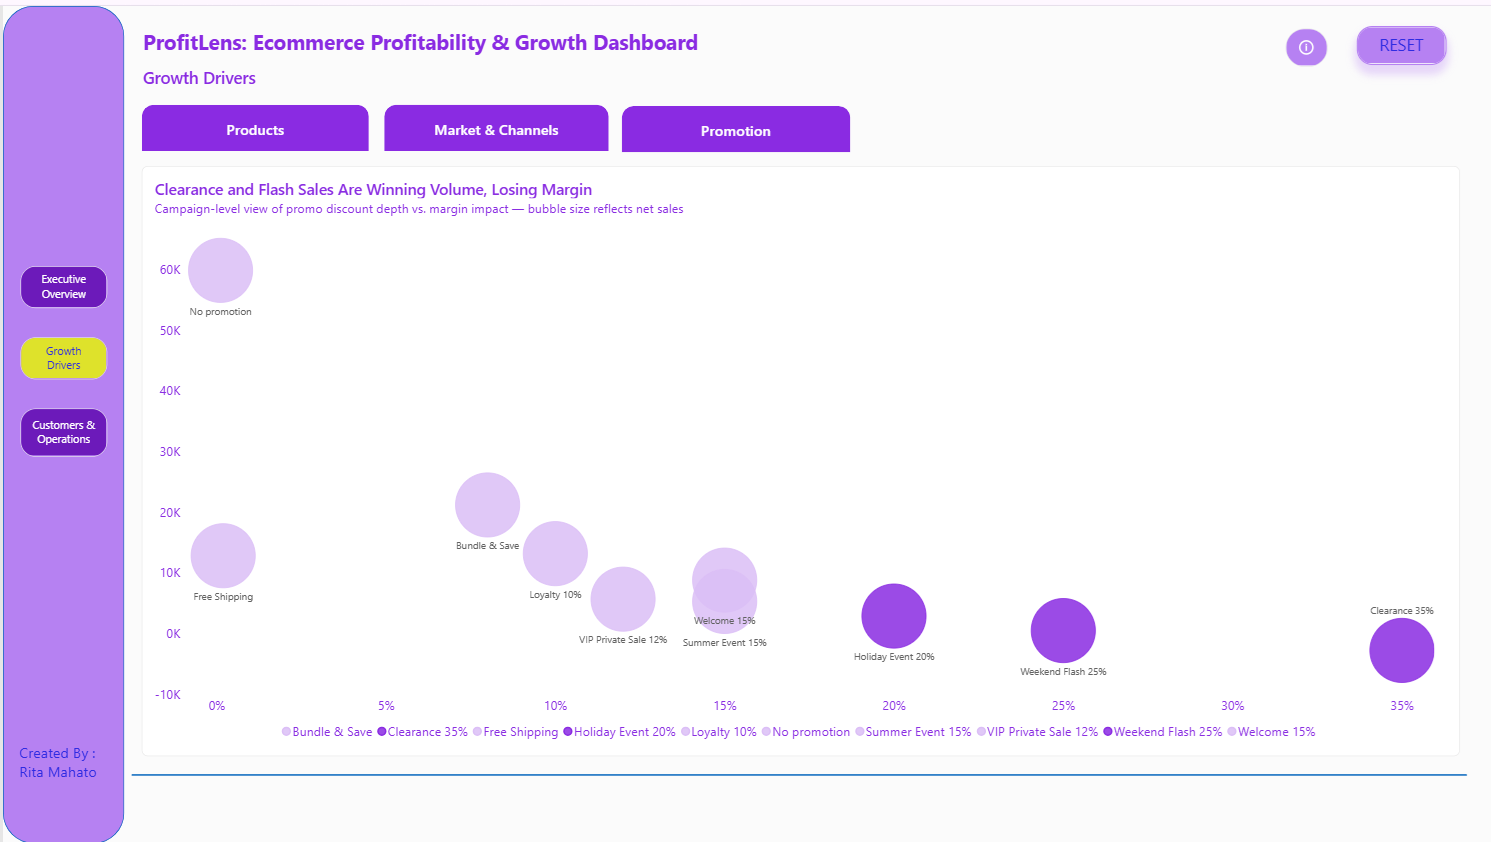

What the dashboard file says about the page in this screenshot:
{"tool":"powerbi","page":{"name":"Growth Drivers","canvas":[1920,1080],"ordinal":1},"visuals":[{"type":"shape","box":[0,0,156.4,1080.6],"z":0},{"type":"actionButton","title":"Exec Overview Button","box":[22,336,112,54],"z":1000},{"type":"actionButton","title":"GD Button","box":[22,428,112,54],"z":2000},{"type":"actionButton","title":"Cust & Ops Button","box":[22,520,112,62],"z":3000},{"type":"textbox","title":"Sign Text box","box":[21.7,950.1,112.2,67],"z":4000},{"type":"textbox","title":"Report name Text box","box":[181,27.1,743.8,50.7],"z":5000},{"type":"actionButton","title":"Reset Button","box":[1746,26,116,50],"z":6000},{"type":"lineClusteredColumnComboChart","title":"Beauty Dominates, Electronics Lags — At Every Level","fields":{"Category":["DimProduct.Category","DimProduct.Subcategory"],"Y":["Measures (2).Contribution Margin"],"Y2":["Measures (2).Margin per Unit"]},"box":[179.2,235.3,933.8,732.9],"z":7000},{"type":"scatterChart","title":"Beauty Leads on Margin, Not Just Sales","fields":{"Series":["DimProduct.Category"],"Size":["Measures (2).Contribution Margin"],"X":["Measures (2).Total Units Sold"],"Y":["Measures (2).CM %"]},"box":[1127.4,235.3,754.6,266],"z":8000},{"type":"tableEx","title":"Product Contribution Table ","fields":{"Values":["DimProduct.ProductName","Measures (2).CM %","Measures (2).Contribution Margin","Measures (2).Product Return Rate %"]},"box":[1127.4,513.9,754.6,454.2],"z":9000},{"type":"actionButton","title":"Product Button","box":[179.2,126.7,293.2,59.7],"z":10000},{"type":"actionButton","title":"Market & ChannelButton","box":[492.2,126.7,289.5,59.7],"z":11000},{"type":"actionButton","title":"Promotion Button","box":[798.1,128.5,295,59.7],"z":12000},{"type":"actionButton","title":"Info On","box":[1654.6,28.6,54.5,49.4],"z":20000},{"type":"textbox","title":"Page name Text box","box":[181,77.8,155.6,47.1],"z":21000},{"type":"shape","title":"Separator","box":[166.5,968.2,1722.8,48.9],"z":24002}]}

Visuals, with their boxes in screenshot pixels (x1, y1, x2, y2), scaled from the page's 1920x1080 canvas onto the 1491x842 screenshot:
shape: 0 0 121 841
"Exec Overview Button" actionButton: 17 262 104 304
"GD Button" actionButton: 17 334 104 376
"Cust & Ops Button" actionButton: 17 405 104 454
"Sign Text box" textbox: 17 741 104 793
"Report name Text box" textbox: 141 21 718 61
"Reset Button" actionButton: 1356 20 1446 59
"Beauty Dominates, Electronics Lags — At Every Level" lineClusteredColumnComboChart: 139 183 864 755
"Beauty Leads on Margin, Not Just Sales" scatterChart: 875 183 1461 391
"Product Contribution Table " tableEx: 875 401 1461 755
"Product Button" actionButton: 139 99 367 145
"Market & ChannelButton" actionButton: 382 99 607 145
"Promotion Button" actionButton: 620 100 849 147
"Info On" actionButton: 1285 22 1327 61
"Page name Text box" textbox: 141 61 261 97
"Separator" shape: 129 755 1467 793
